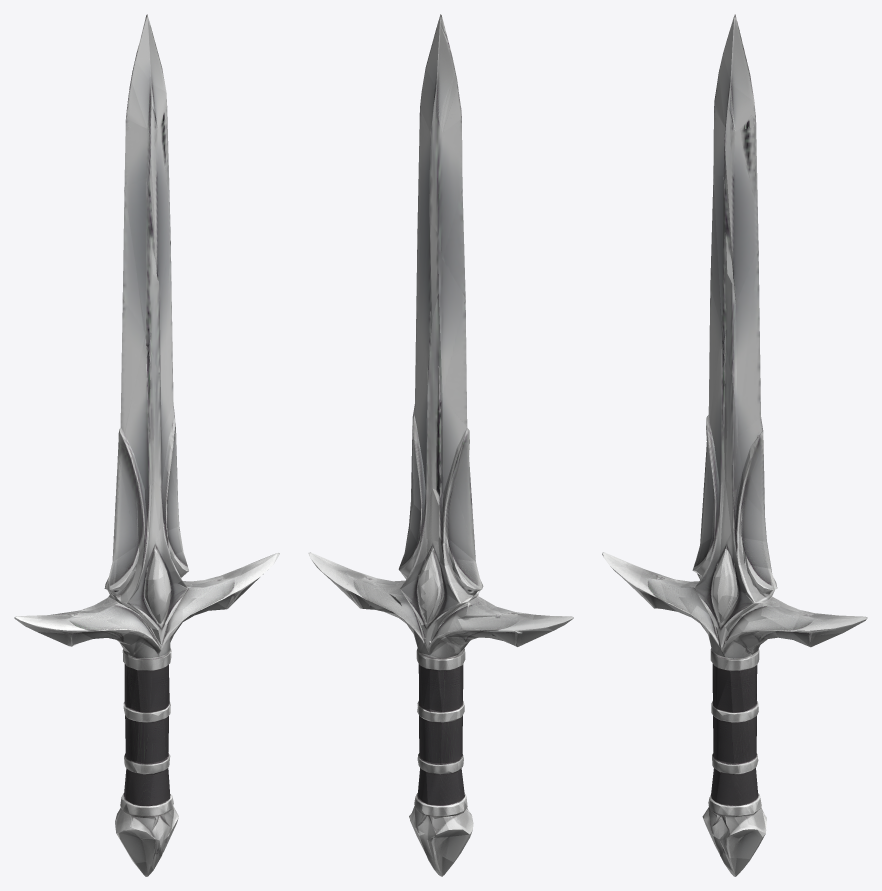
The model's file is w_knight_sword.glb.
3 views of the same model, side by side, from view 1: azimuth 30°, elevation 25°; view 2: azimuth 150°, elevation 25°; view 3: azimuth 330°, elevation 25° (orthographic).
Parts seen in each view (by area): view 1: Mesh_0; view 2: Mesh_0; view 3: Mesh_0.
Part boxes in pixels (box(x1,y1,x2,y2)): Mesh_0: box(14, 14, 279, 876); Mesh_0: box(308, 14, 573, 876); Mesh_0: box(602, 14, 867, 876).
Bounding box in the file's own units: 0.6097 × 1.9 × 0.1428.
1 material, 1 textured.
